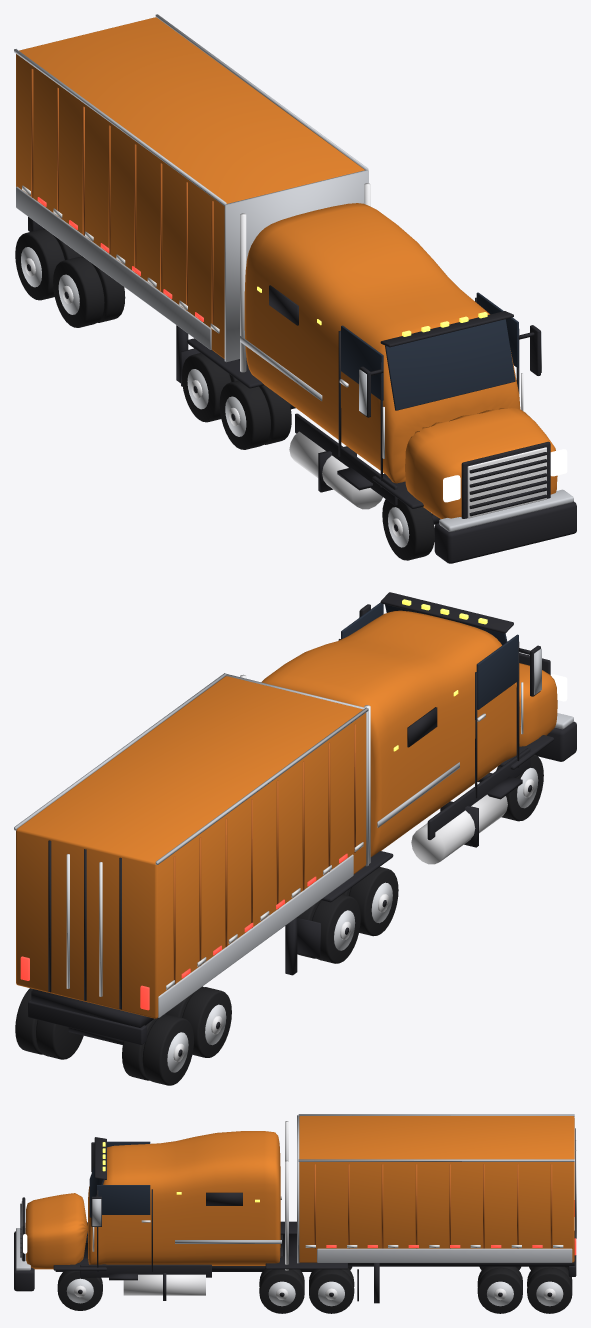
The model's file is truck_01.glb.
3 renders of one model, top to bottom at view 1: azimuth 30°, elevation 25°; view 2: azimuth 150°, elevation 25°; view 3: azimuth 270°, elevation 25°, orthographic. The views are drawn at different scales.
Parts seen in each view (by area): view 1: Trailer, Details, Cab, Hood, Wheel_D0L_Mesh, Wheel_T0L_Mesh, Wheel_T1L_Mesh, Wheel_FL_Mesh, Wheel_D1L_Mesh; view 2: Trailer, Details, Cab, Wheel_T1L_Mesh, Wheel_T0L_Mesh, Wheel_D1L_Mesh, Wheel_D0L_Mesh, Wheel_T1R_Mesh, Hood, Wheel_FL_Mesh; view 3: Trailer, Cab, Details, Hood, Wheel_T0R_Mesh, Wheel_T1R_Mesh, Wheel_D0R_Mesh, Wheel_D1R_Mesh, Wheel_FR_Mesh.
Part boxes in pixels (box(x1,y1,x2,y2)): Trailer: box(16, 17, 364, 358); Details: box(14, 14, 576, 563); Cab: box(244, 203, 520, 483); Hood: box(405, 408, 557, 519); Wheel_D0L_Mesh: box(219, 380, 291, 449); Wheel_T0L_Mesh: box(53, 256, 125, 327); Wheel_T1L_Mesh: box(15, 228, 81, 300); Wheel_FL_Mesh: box(382, 499, 434, 560); Wheel_D1L_Mesh: box(182, 353, 237, 422); Trailer: box(16, 676, 366, 1018); Details: box(14, 592, 576, 1044); Cab: box(261, 610, 520, 856); Wheel_T1L_Mesh: box(122, 1014, 194, 1085); Wheel_T0L_Mesh: box(165, 986, 231, 1057); Wheel_D1L_Mesh: box(297, 894, 360, 963); Wheel_D0L_Mesh: box(342, 867, 398, 936); Wheel_T1R_Mesh: box(15, 988, 83, 1059); Hood: box(515, 663, 557, 746); Wheel_FL_Mesh: box(496, 754, 543, 821); Trailer: box(299, 1116, 574, 1262); Cab: box(87, 1131, 280, 1265); Details: box(14, 1114, 576, 1303); Hood: box(25, 1193, 87, 1269); Wheel_T0R_Mesh: box(477, 1266, 522, 1313); Wheel_T1R_Mesh: box(527, 1266, 572, 1313); Wheel_D0R_Mesh: box(259, 1268, 304, 1313); Wheel_D1R_Mesh: box(309, 1268, 354, 1313); Wheel_FR_Mesh: box(57, 1270, 102, 1310).
Size of the model in its own units: 3.23 by 4.13 by 13.67.
